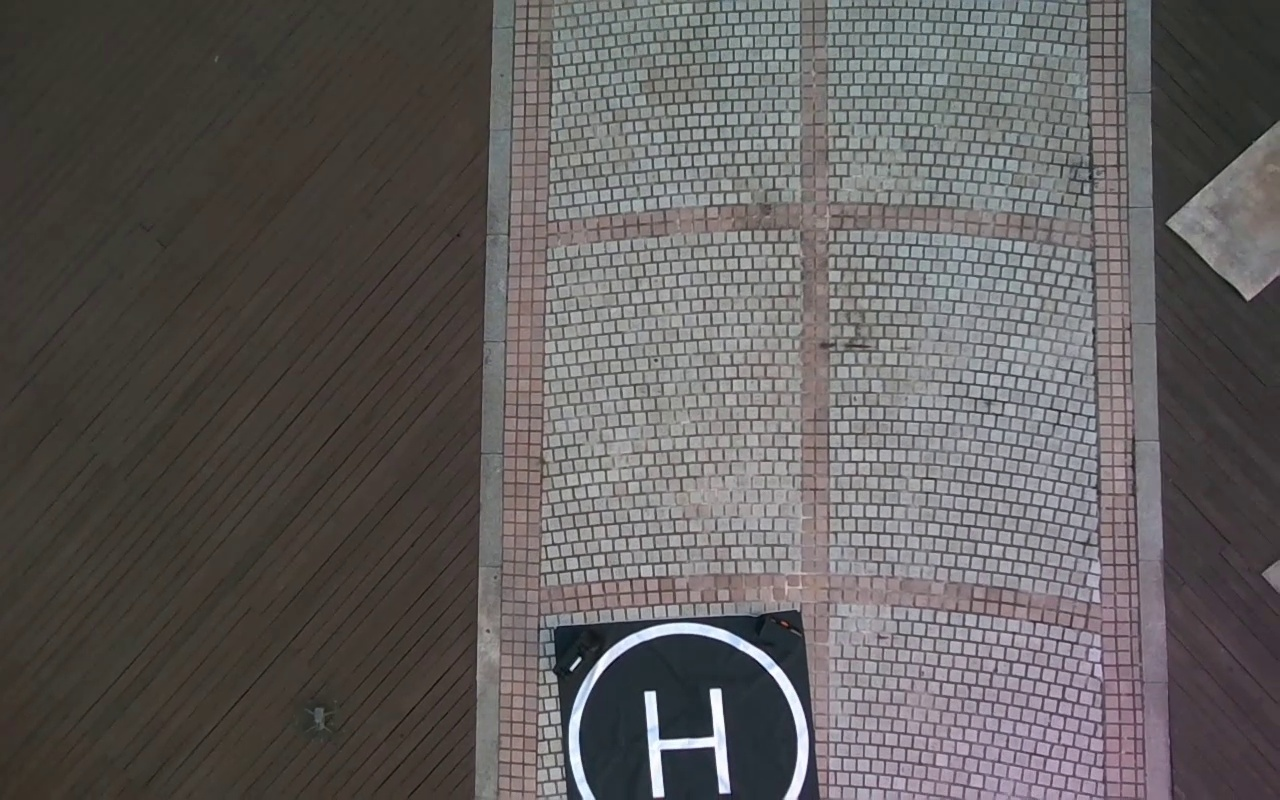H: (642, 688, 731, 800)
